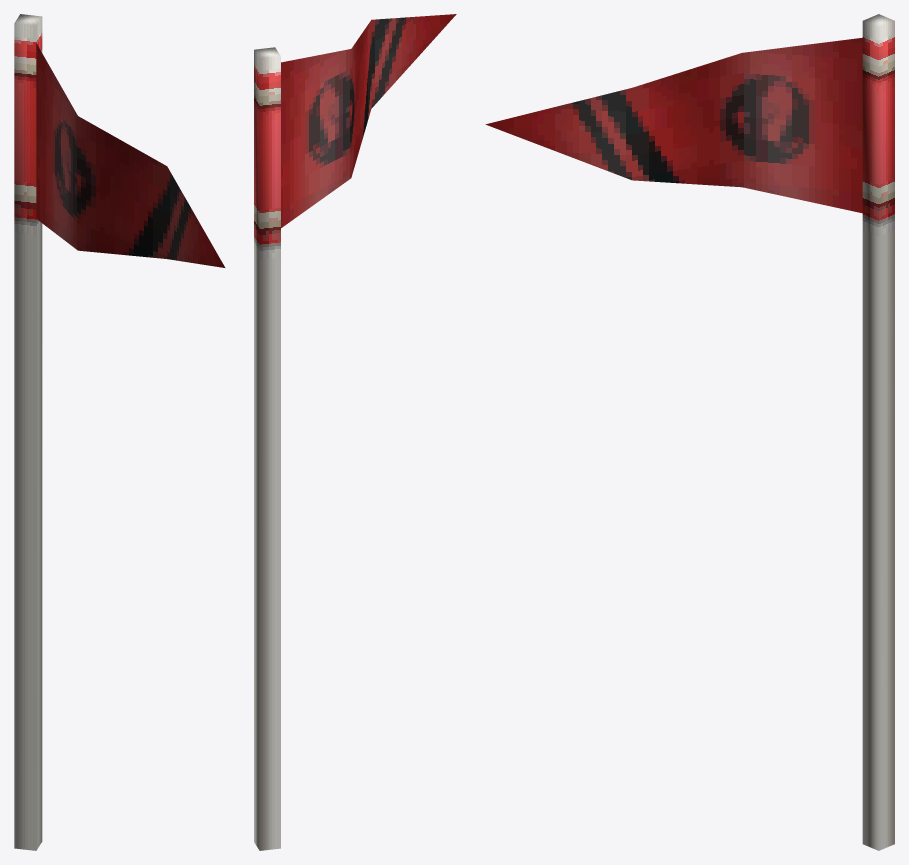
Rendered from MissionFlag.obj.
3 renders of one model, left to right at view 1: azimuth 30°, elevation 25°; view 2: azimuth 150°, elevation 25°; view 3: azimuth 270°, elevation 25°, orthographic. The views are drawn at different scales.
Visible parts, largest first — view 1: object_012EB7EC, object_012EB590; view 2: object_012EB7EC, object_012EB590; view 3: object_012EB590, object_012EB7EC.
Part boxes in pixels (box(x1,y1,x2,y2)): object_012EB7EC: box(14, 14, 42, 850); object_012EB590: box(36, 43, 225, 267); object_012EB7EC: box(254, 47, 280, 850); object_012EB590: box(281, 14, 456, 227); object_012EB590: box(485, 37, 862, 213); object_012EB7EC: box(862, 14, 894, 850).
Size of the model in its own units: 0.6498 by 15 by 6.77.
1 material, 1 textured.
